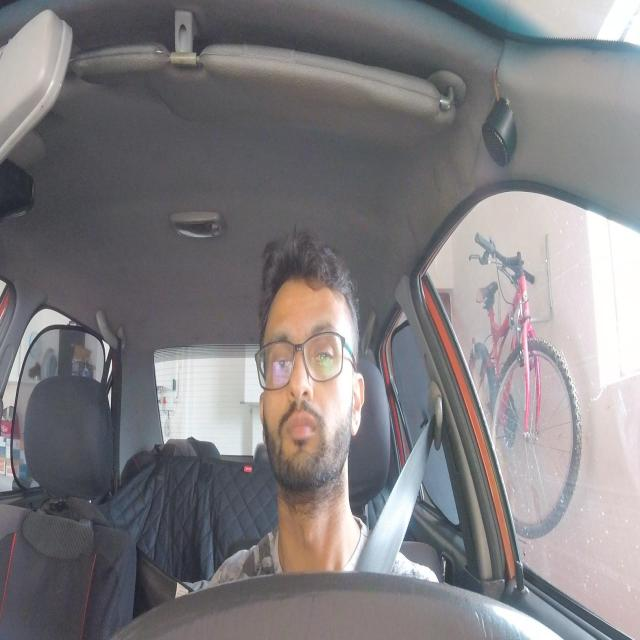open: (310, 314, 346, 388), (266, 324, 298, 386)
